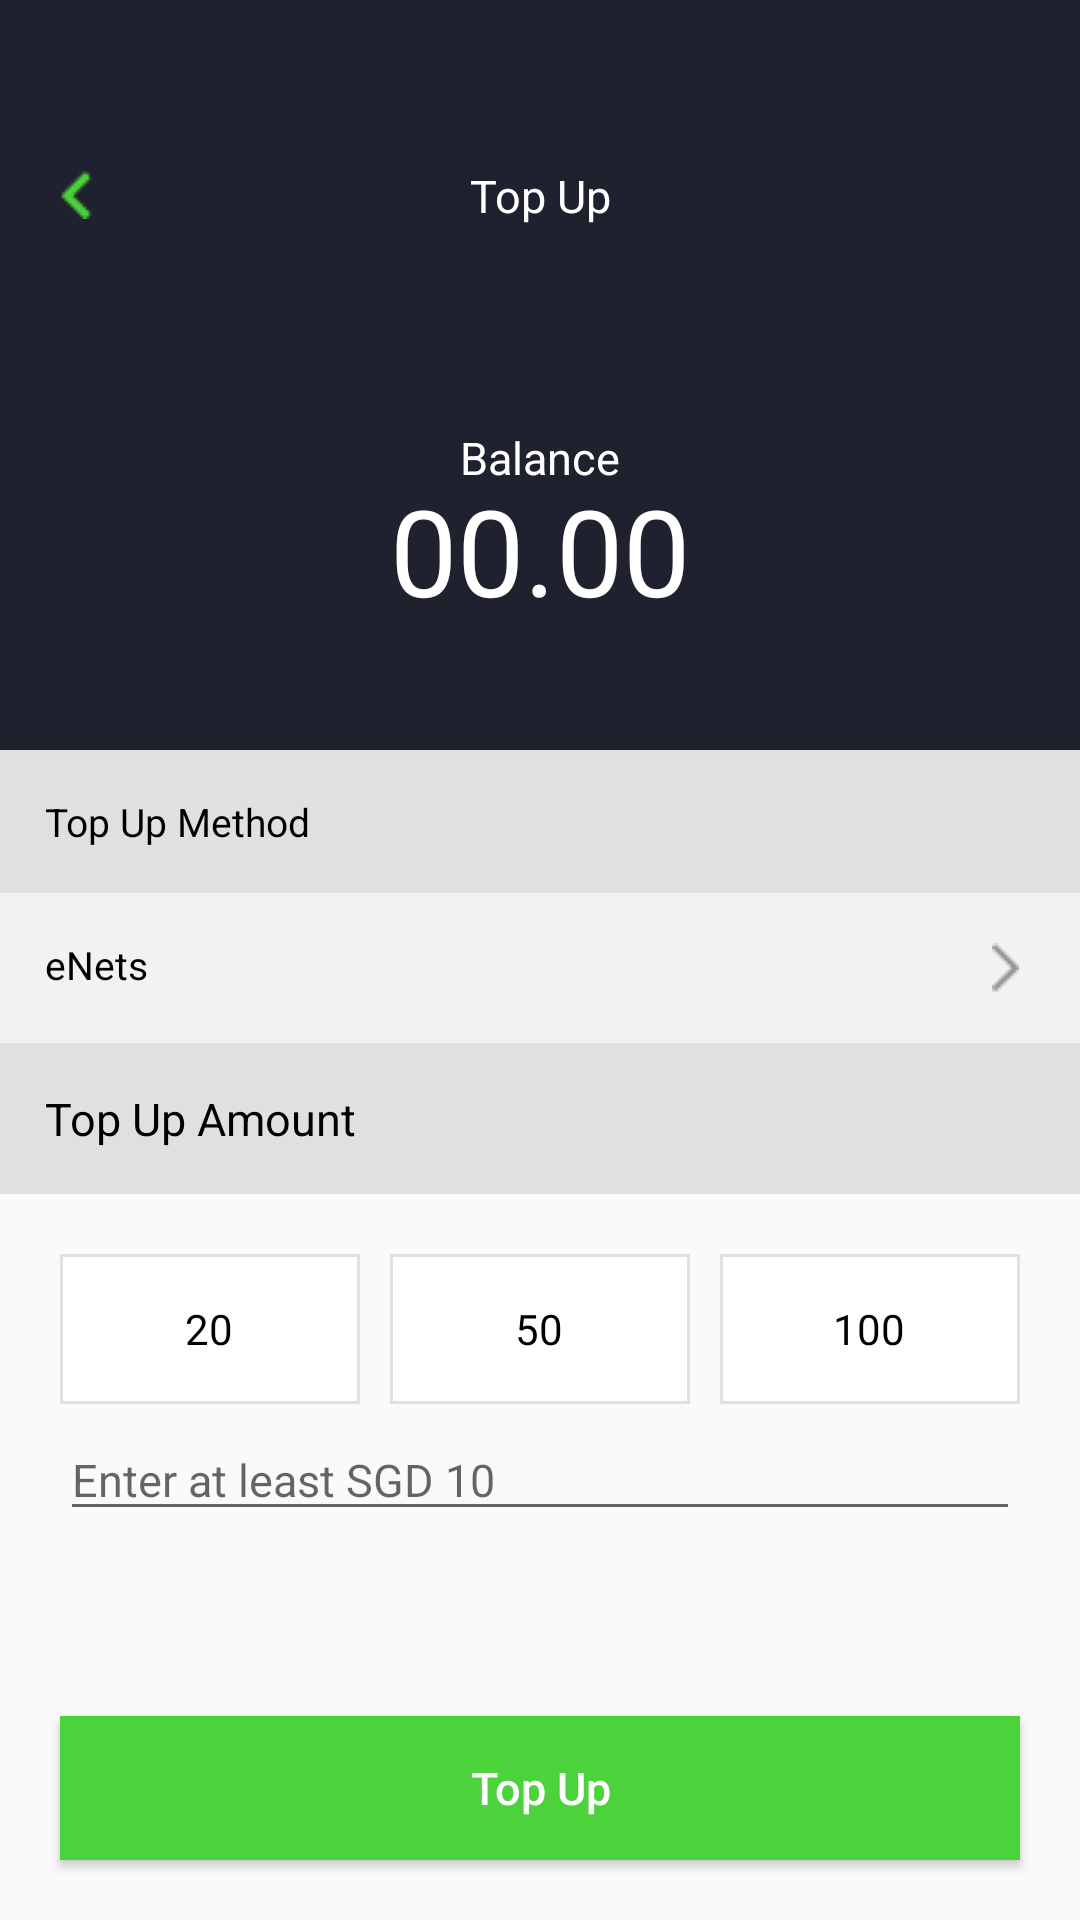

Named icons in this screenshot (1080px×1920px) and their centers, (x,y):
chevronleft: (76,195)
chevronright: (1005,967)
